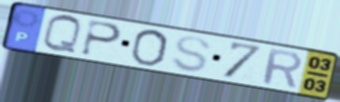7: (221, 40, 264, 80)
O: (128, 28, 171, 67)
P: (78, 18, 124, 59)
Q: (40, 14, 84, 56)
R: (261, 47, 304, 90)
S: (169, 35, 214, 74)
